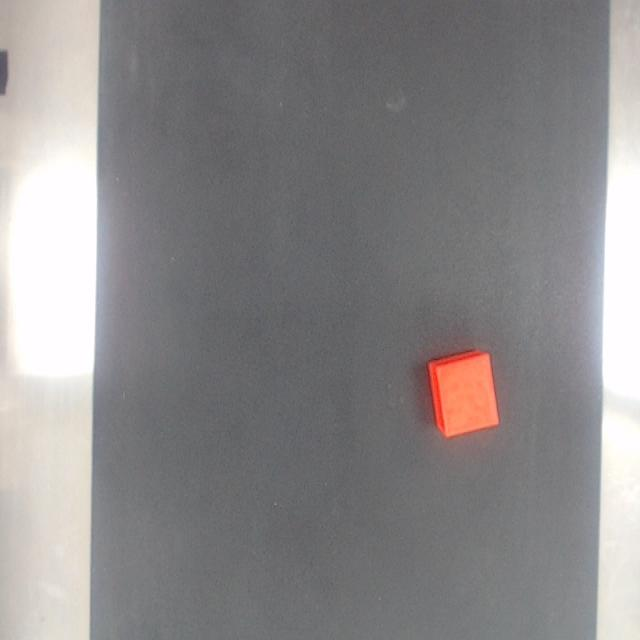Rojo: (426, 351, 499, 439)
